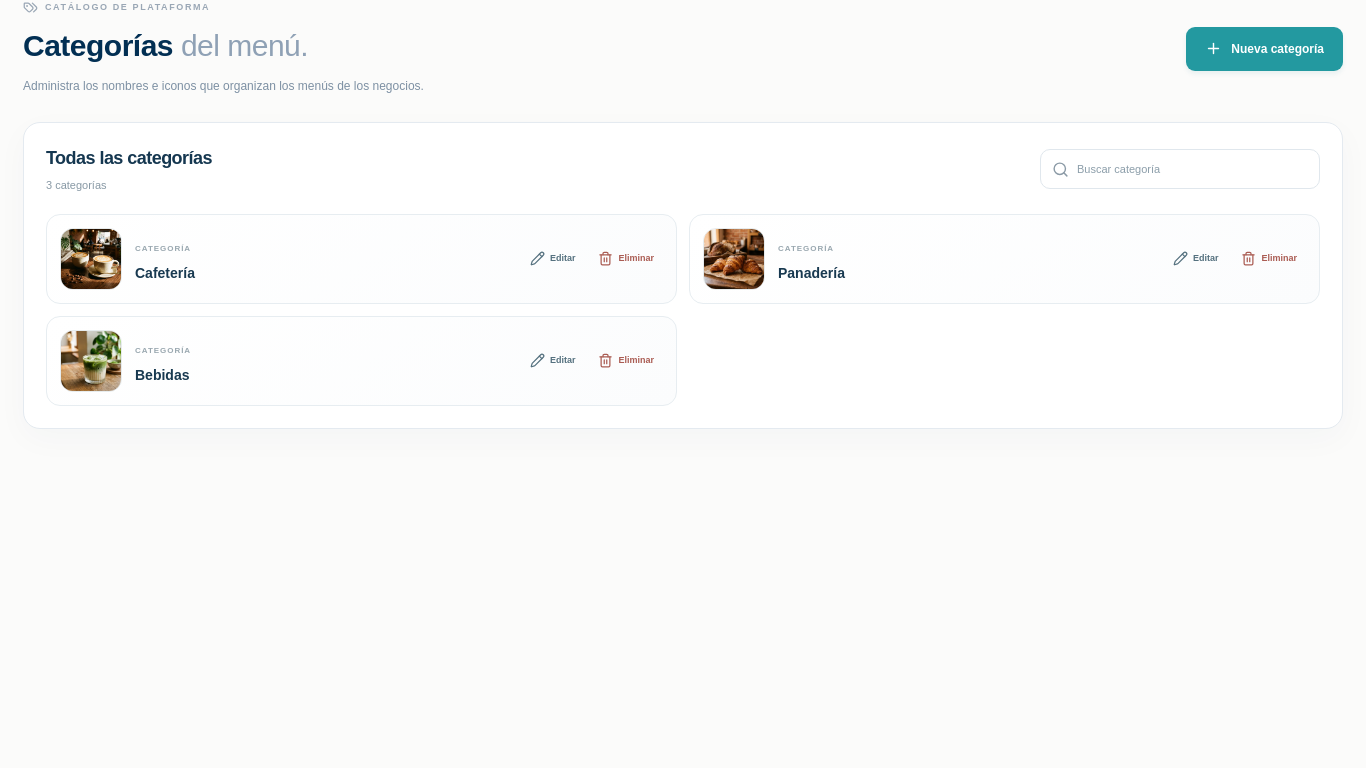
Test: Administración de categorías › requiere confirmación antes de eliminar una categoría
Expected: the heading "Panadería" is shown, [778,265,845,281]
Click the button with aria-label "Eliminar Panadería": (1269, 259) [1232,242,1306,275]
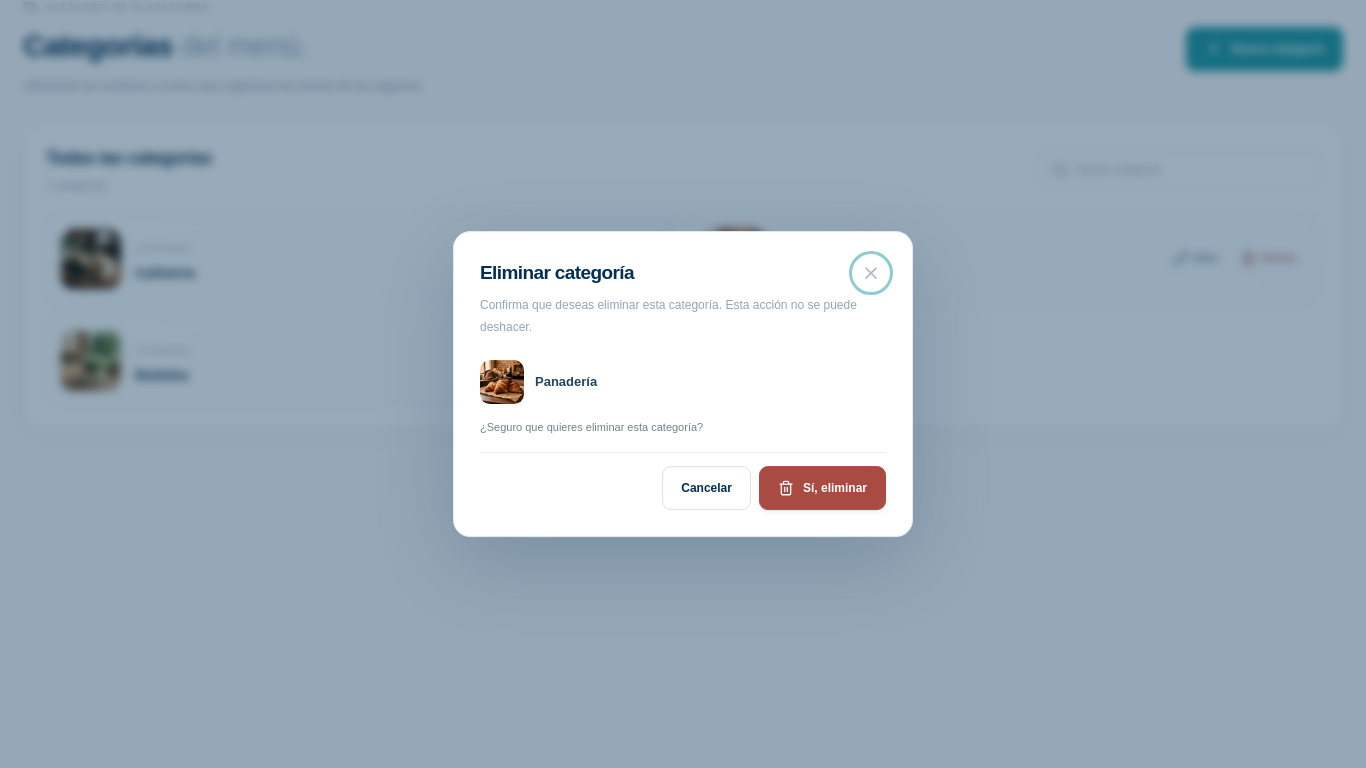
Result: the text "¿Seguro que quieres eliminar esta categoría?" is shown at [480,421,703,433]
Click the button "Sí, eliminar": (822, 488) [759,466,886,510]
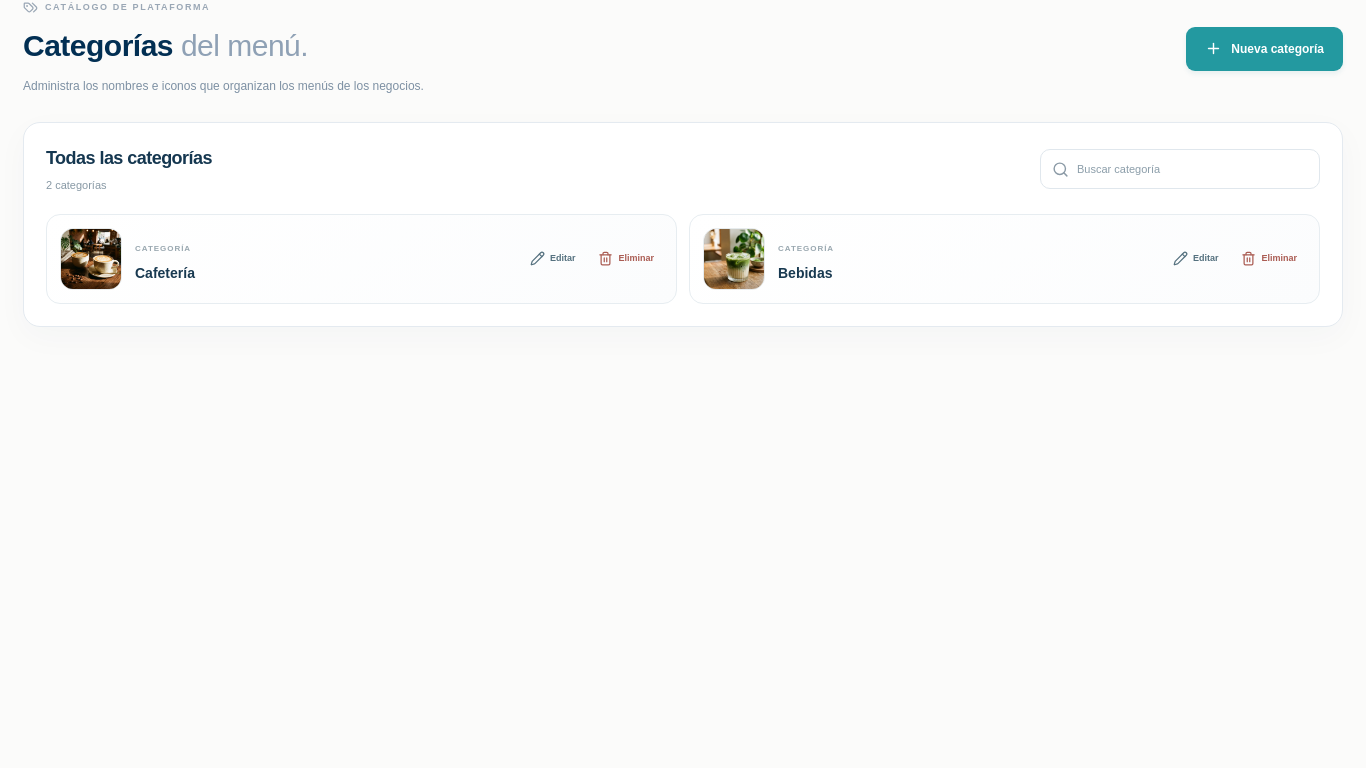
Result: the heading "Panadería" is gone
